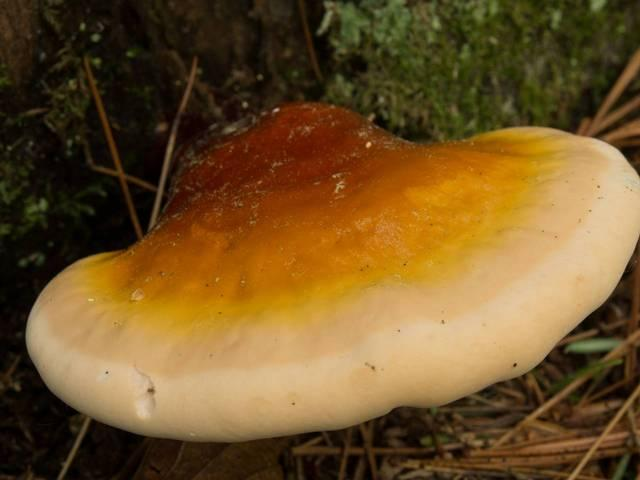Non-edible Mushroom: (23, 98, 639, 444)
